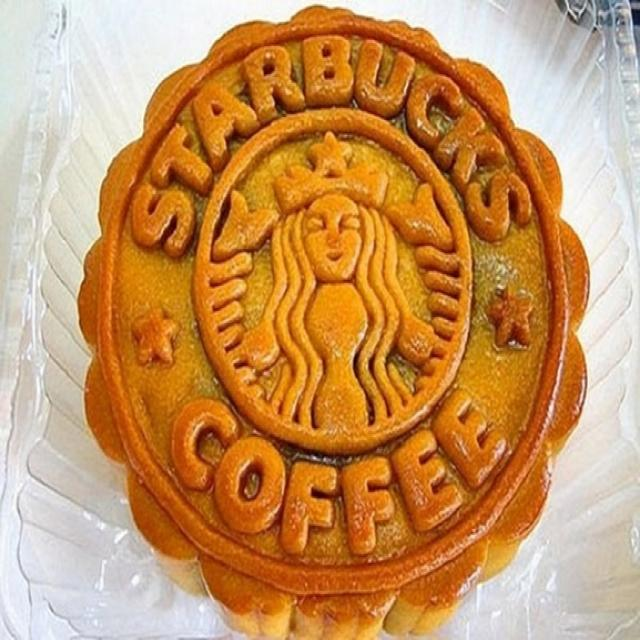蛋糕甜品: (75, 18, 589, 610)
